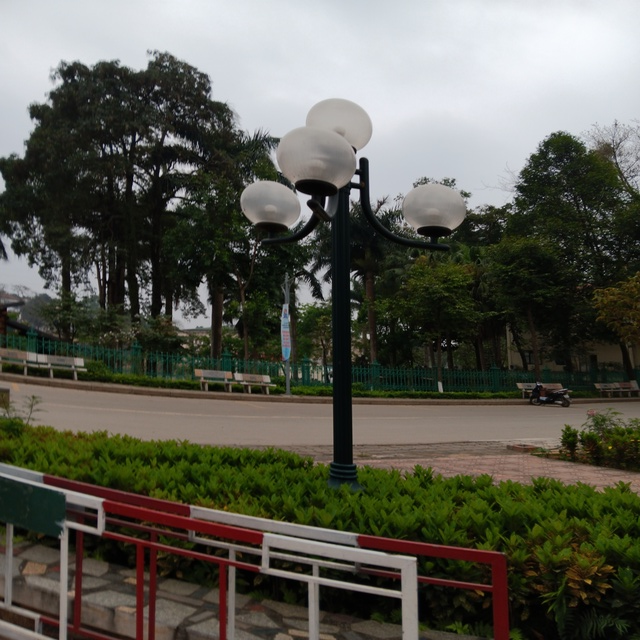cotden: (246, 98, 474, 485)
